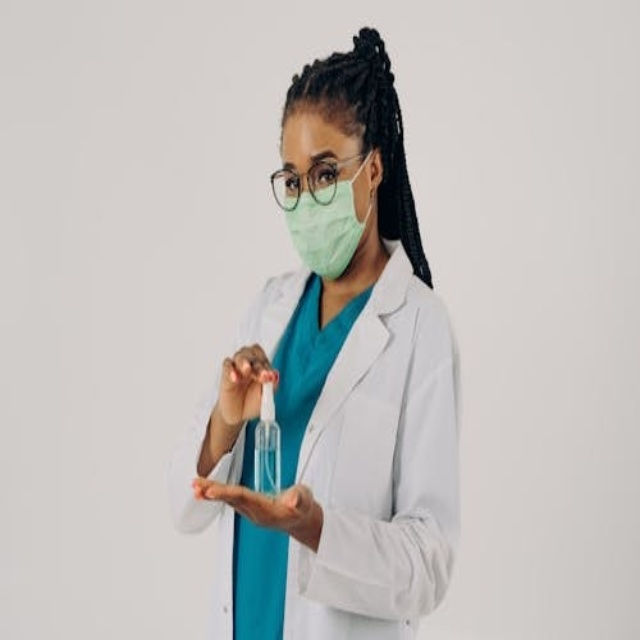Gafas: (270, 149, 371, 210)
Mascara: (280, 152, 374, 276)
Sin_guantes: (214, 332, 280, 431), (194, 477, 307, 534)
